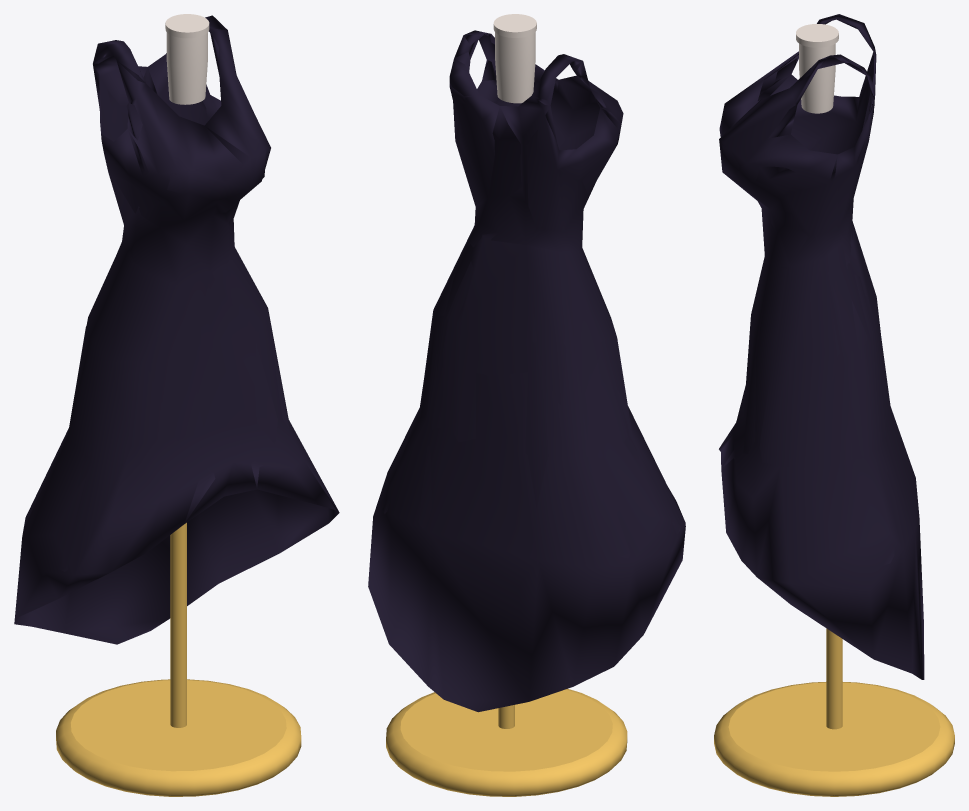
Rendered from rain.dress.black-highlow.lod1.glb.
The picture shows the model from 3 angles, left to right: view 1: azimuth 30°, elevation 25°; view 2: azimuth 150°, elevation 25°; view 3: azimuth 270°, elevation 25°; orthographic projection. The views are drawn at different scales.
Visible parts, largest first — view 1: Tailored.Dress.black-highlow.Fabric, stand_base, stand_stem, stand_torso, stand_neck_cap; view 2: Tailored.Dress.black-highlow.Fabric, stand_base, stand_torso, stand_neck_cap; view 3: Tailored.Dress.black-highlow.Fabric, stand_base, stand_torso, stand_stem, stand_neck_cap.
Part boxes in pixels (x1,y1,x2,y2): Tailored.Dress.black-highlow.Fabric: [14, 15, 339, 644]; stand_base: [56, 679, 301, 796]; stand_stem: [170, 522, 186, 727]; stand_torso: [166, 32, 207, 104]; stand_neck_cap: [165, 14, 209, 38]; Tailored.Dress.black-highlow.Fabric: [368, 30, 685, 712]; stand_base: [386, 688, 627, 796]; stand_torso: [495, 32, 535, 103]; stand_neck_cap: [493, 14, 536, 37]; Tailored.Dress.black-highlow.Fabric: [719, 14, 924, 679]; stand_base: [714, 682, 954, 796]; stand_torso: [799, 43, 835, 113]; stand_stem: [826, 628, 842, 729]; stand_neck_cap: [796, 24, 838, 47].
Bounding box in the file's own units: 0.2985 × 0.75 × 0.2278.
